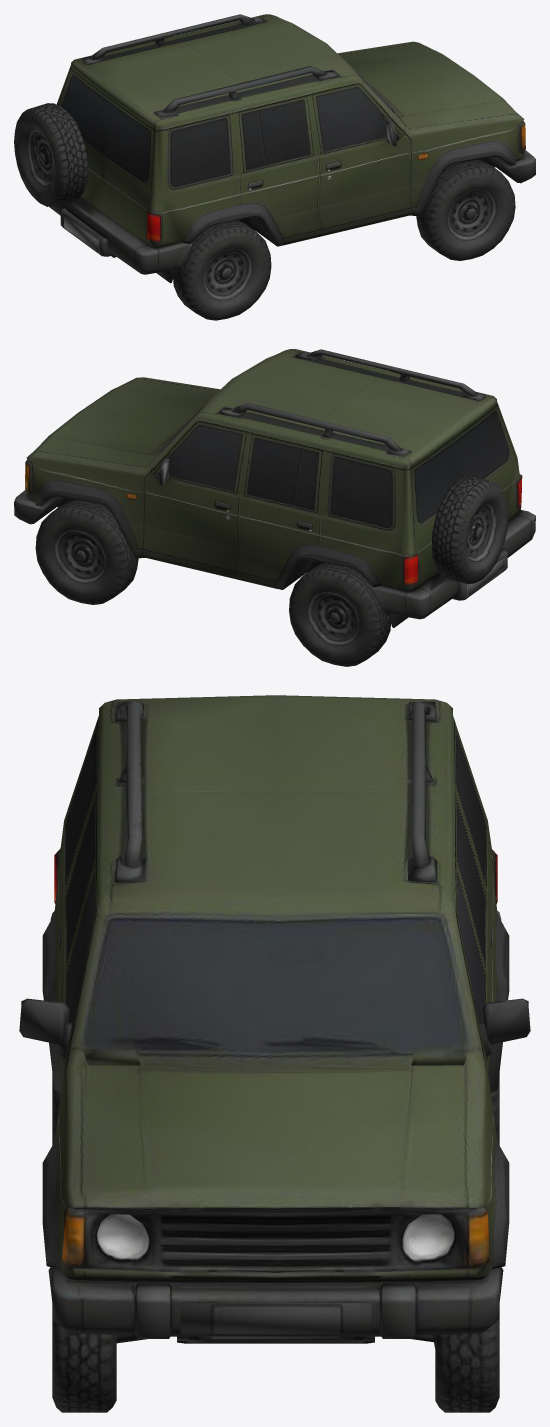
The model's file is traffic_jeep.glb.
3 renders of one model, top to bottom at view 1: azimuth 30°, elevation 25°; view 2: azimuth 150°, elevation 25°; view 3: azimuth 270°, elevation 25°, orthographic. The views are drawn at different scales.
Visible parts, largest first — view 1: Body, Wheel_FR, Wheel_RR; view 2: Body, Wheel_FL, Wheel_RL; view 3: Body.
Boxes of the visible parts, bbox=[...] form: Body: bbox=[14, 14, 535, 320]; Wheel_FR: bbox=[436, 176, 511, 260]; Wheel_RR: bbox=[192, 237, 267, 320]; Body: bbox=[14, 349, 535, 666]; Wheel_FL: bbox=[38, 516, 121, 604]; Wheel_RL: bbox=[292, 579, 374, 666]; Body: bbox=[19, 695, 530, 1412].
Bounding box in the file's own units: 1 × 0.4755 × 0.5147.
1 material, 1 textured.
